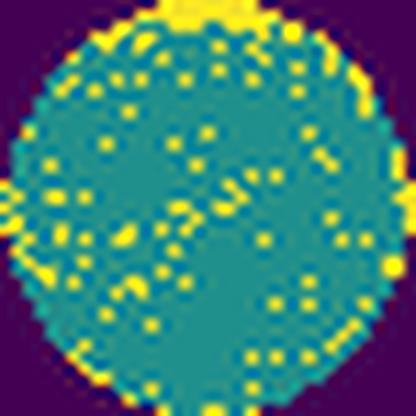Edge-Loc: (87, 0, 302, 58), (339, 60, 382, 128)
